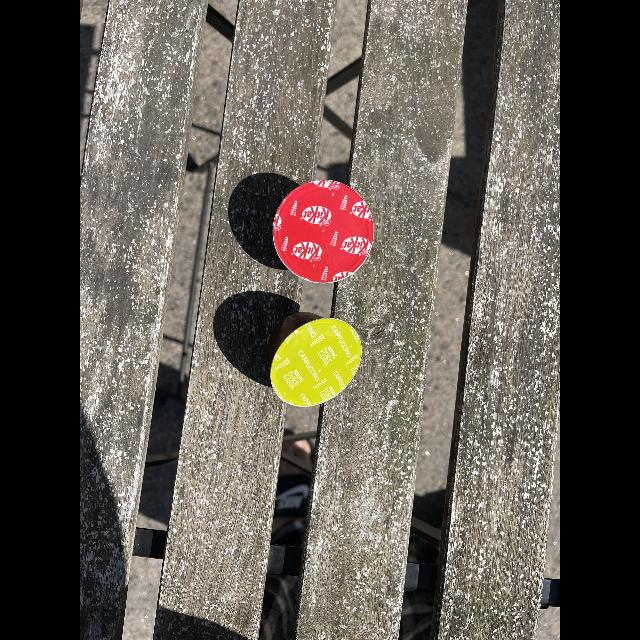intact_capsule: (266, 174, 384, 292), (263, 310, 371, 416)
